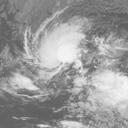cyclone: (40, 25, 81, 68)
